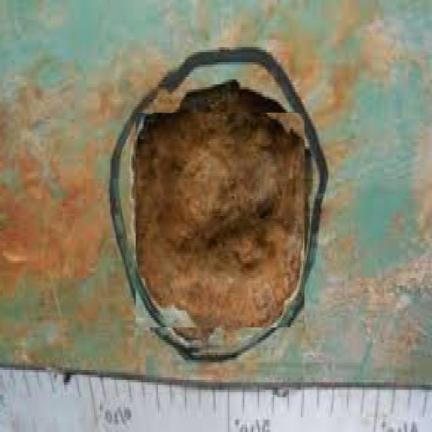karat: (135, 82, 307, 339)
